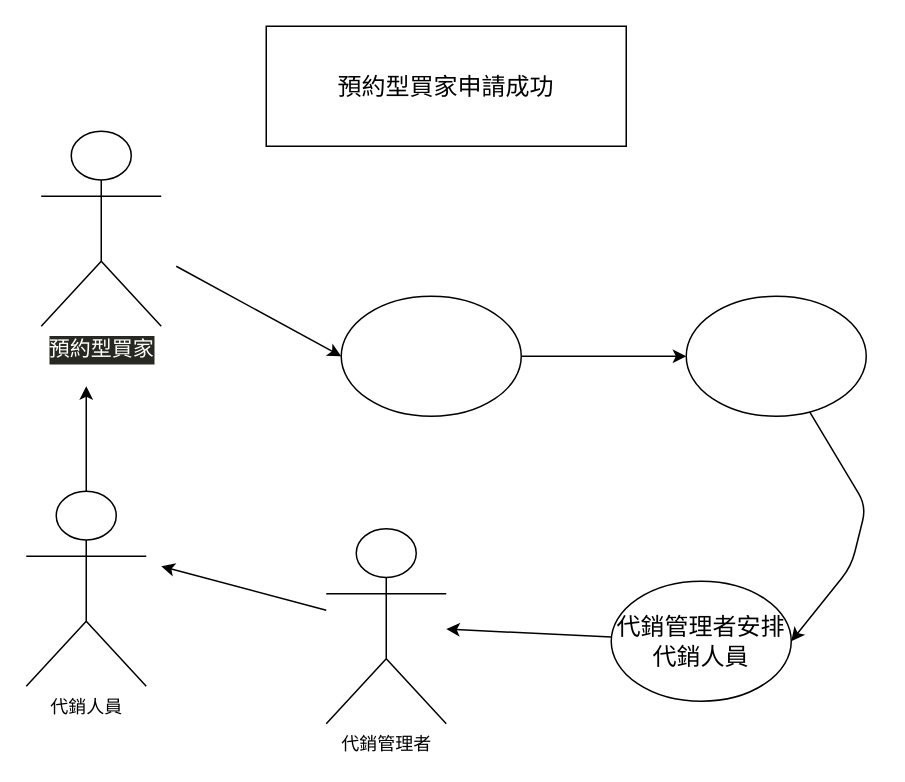
This 905x782 diagram has some shape labels left out. Here are the shapes that lost their labels. From the top down, the box of each, then its label:
(340, 295, 521, 416): 填寫預約申請表
(685, 295, 866, 416): 後臺審核通過
